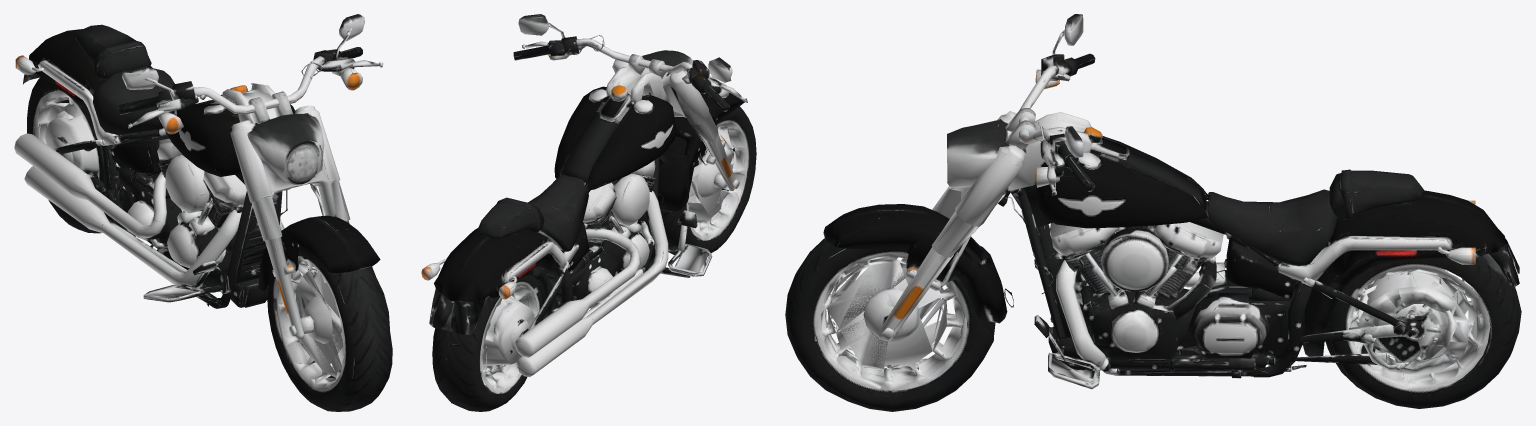
File: moto_cruiser.glb
The picture shows the model from 3 angles, left to right: view 1: azimuth 30°, elevation 25°; view 2: azimuth 150°, elevation 25°; view 3: azimuth 270°, elevation 25°; orthographic projection. The views are drawn at different scales.
Visible parts, largest first — view 1: prop; view 2: prop; view 3: prop.
Part boxes in pixels (bbox=[...]): prop: bbox=[14, 14, 392, 411]; prop: bbox=[421, 14, 756, 411]; prop: bbox=[785, 14, 1521, 411].
Bounding box in the file's own units: 0.924 × 1.05 × 2.1.
Materials: 1 (1 with a texture image).
